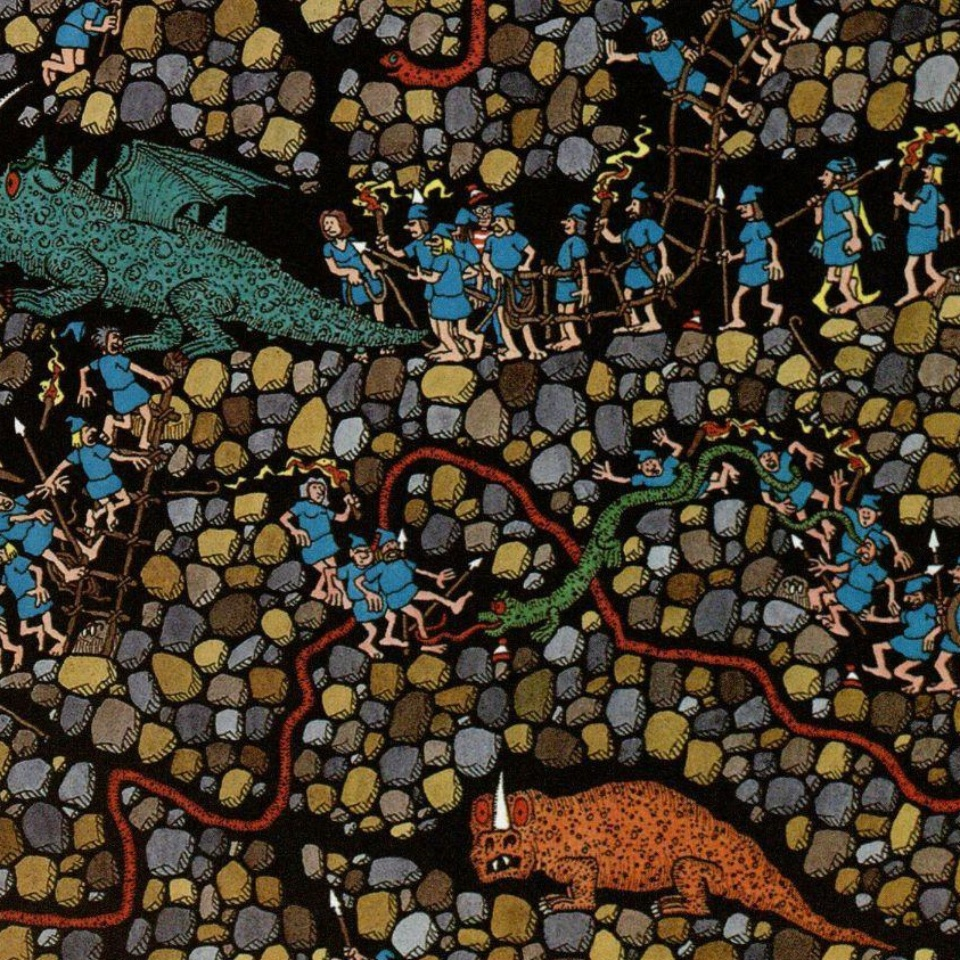waldo: (467, 184, 494, 225)
